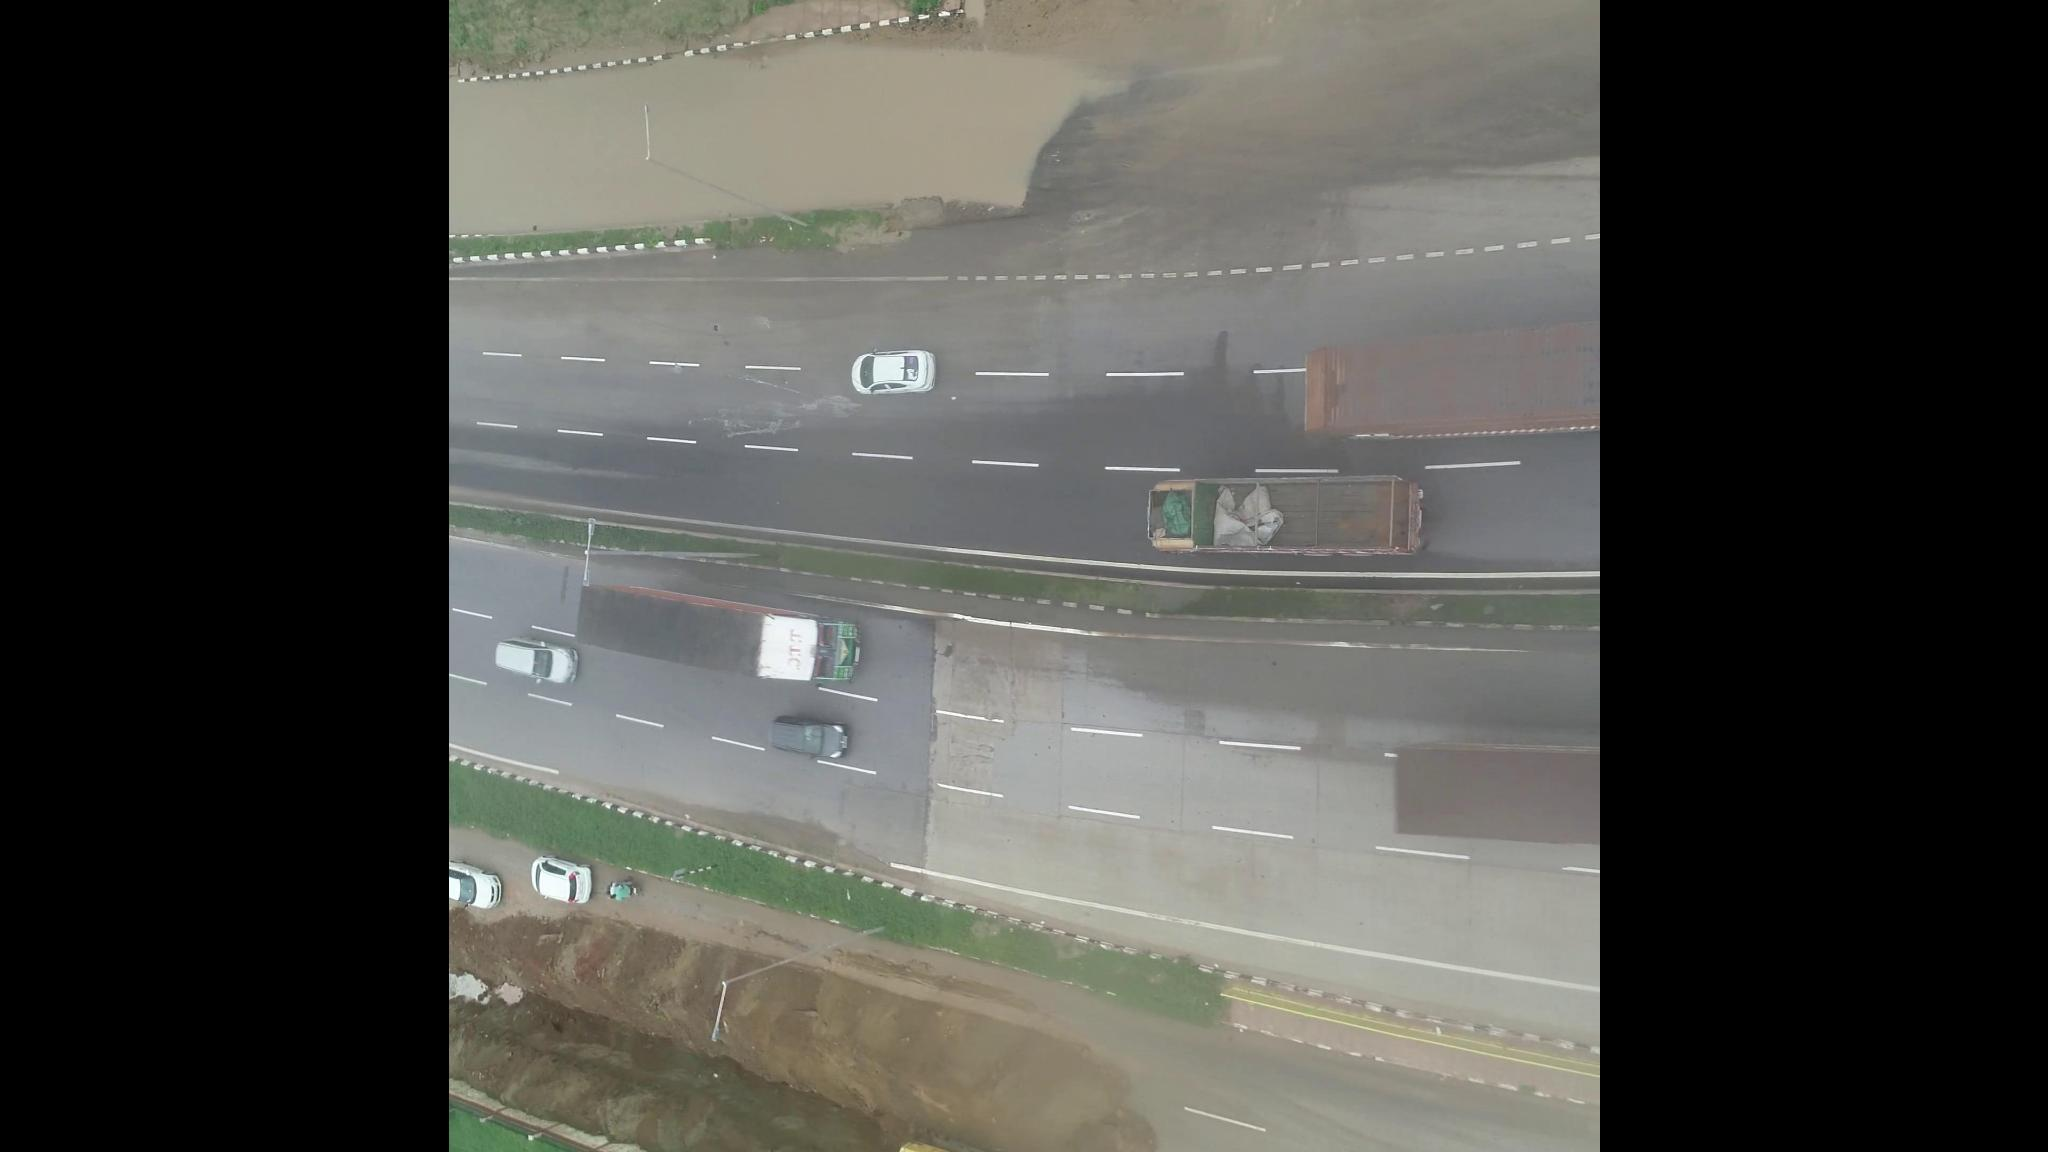Waterlogging: (587, 34, 1027, 208)
